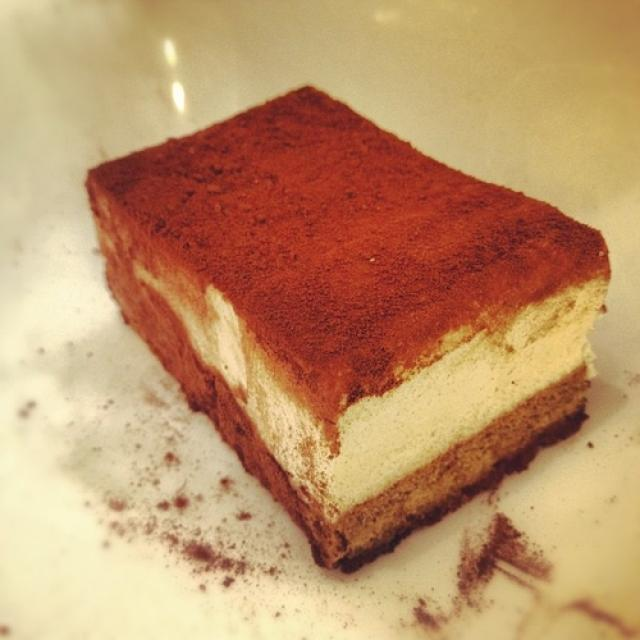蛋糕甜品: (26, 18, 626, 621)
